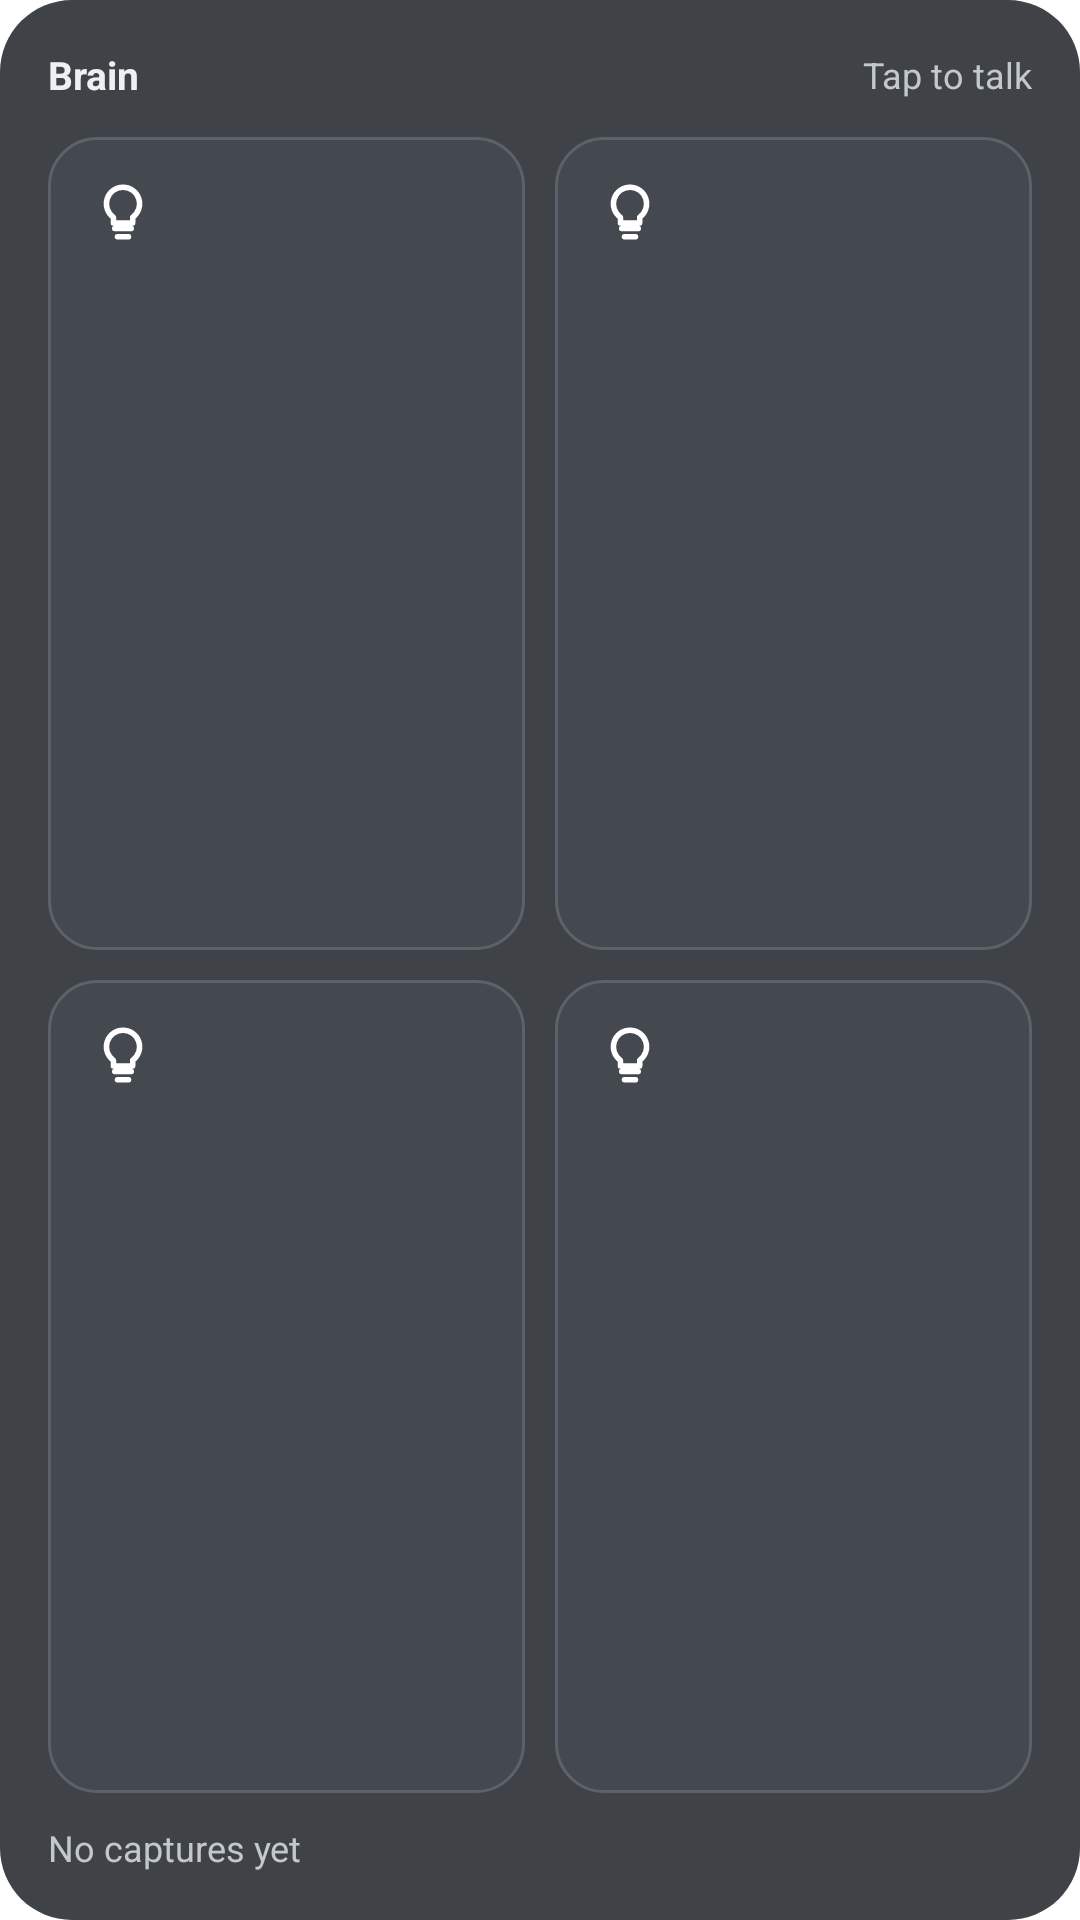

Screen size 1080px×1920px. Icon name, then its center in pixels as (x,y):
idea: (123,212), (630,212), (123,1055), (630,1055)
